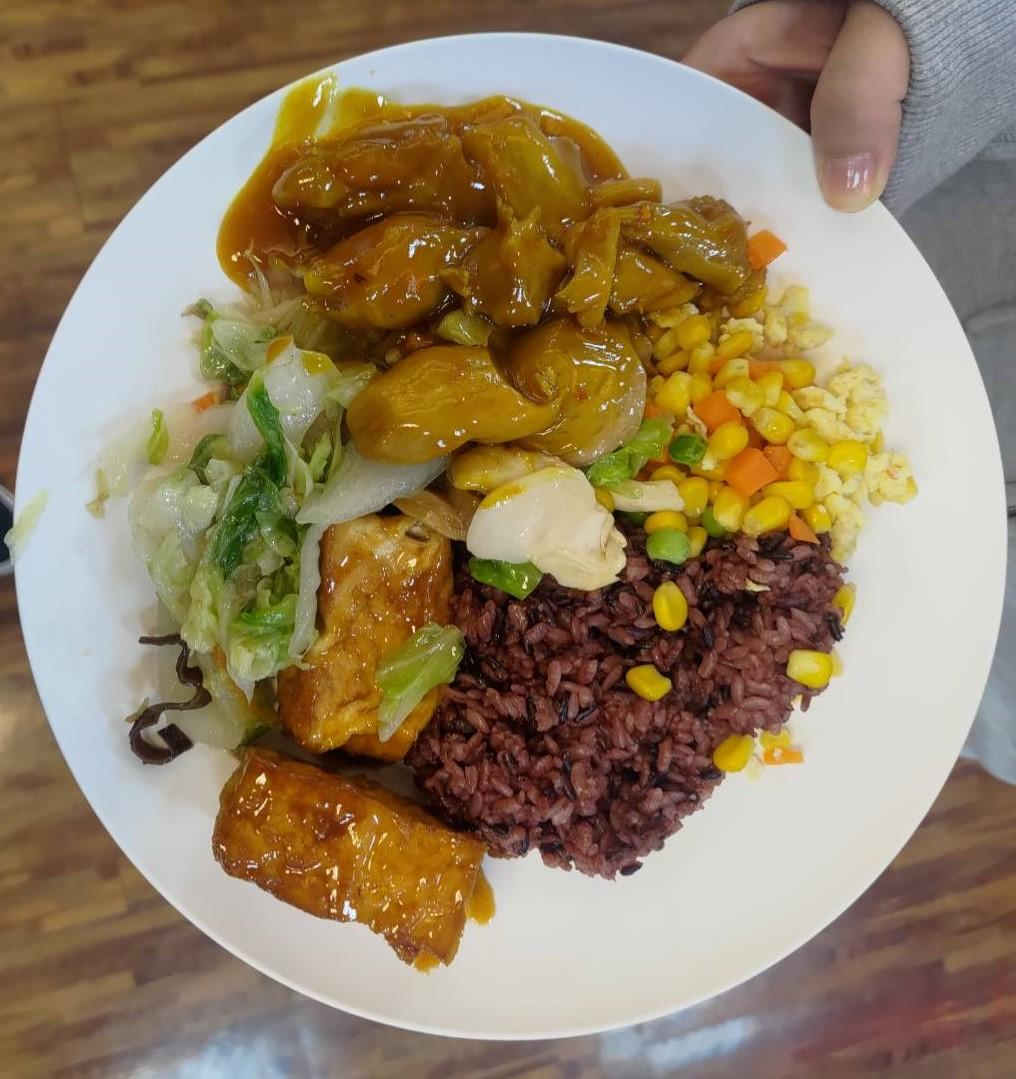big fried chicken leg: (15, 23, 1011, 1054)
braised fish: (409, 506, 843, 878)
braised fish fillet: (209, 518, 493, 972), (128, 300, 345, 688), (609, 299, 905, 534)
braised pork: (275, 98, 765, 455)
